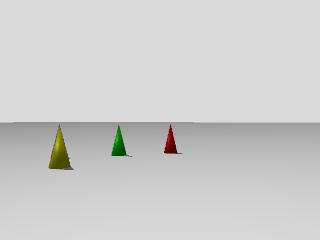green: (108, 122, 128, 156)
red: (162, 123, 179, 154)
yellow: (48, 122, 72, 170)
